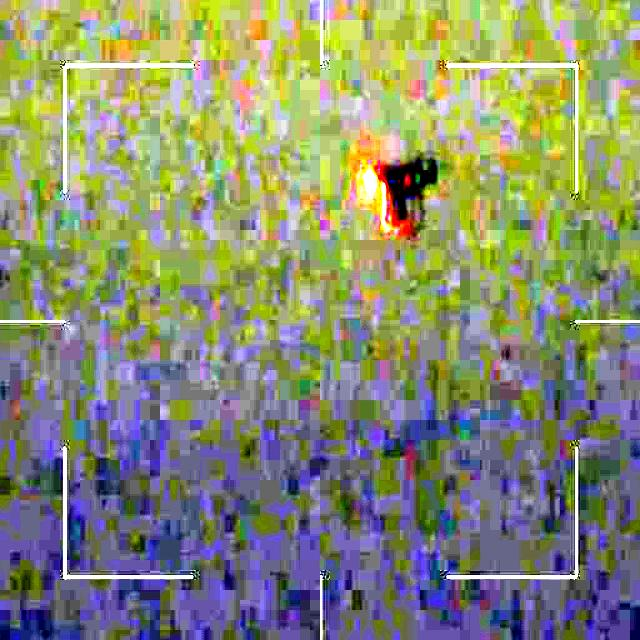bird: (352, 145, 445, 232)
